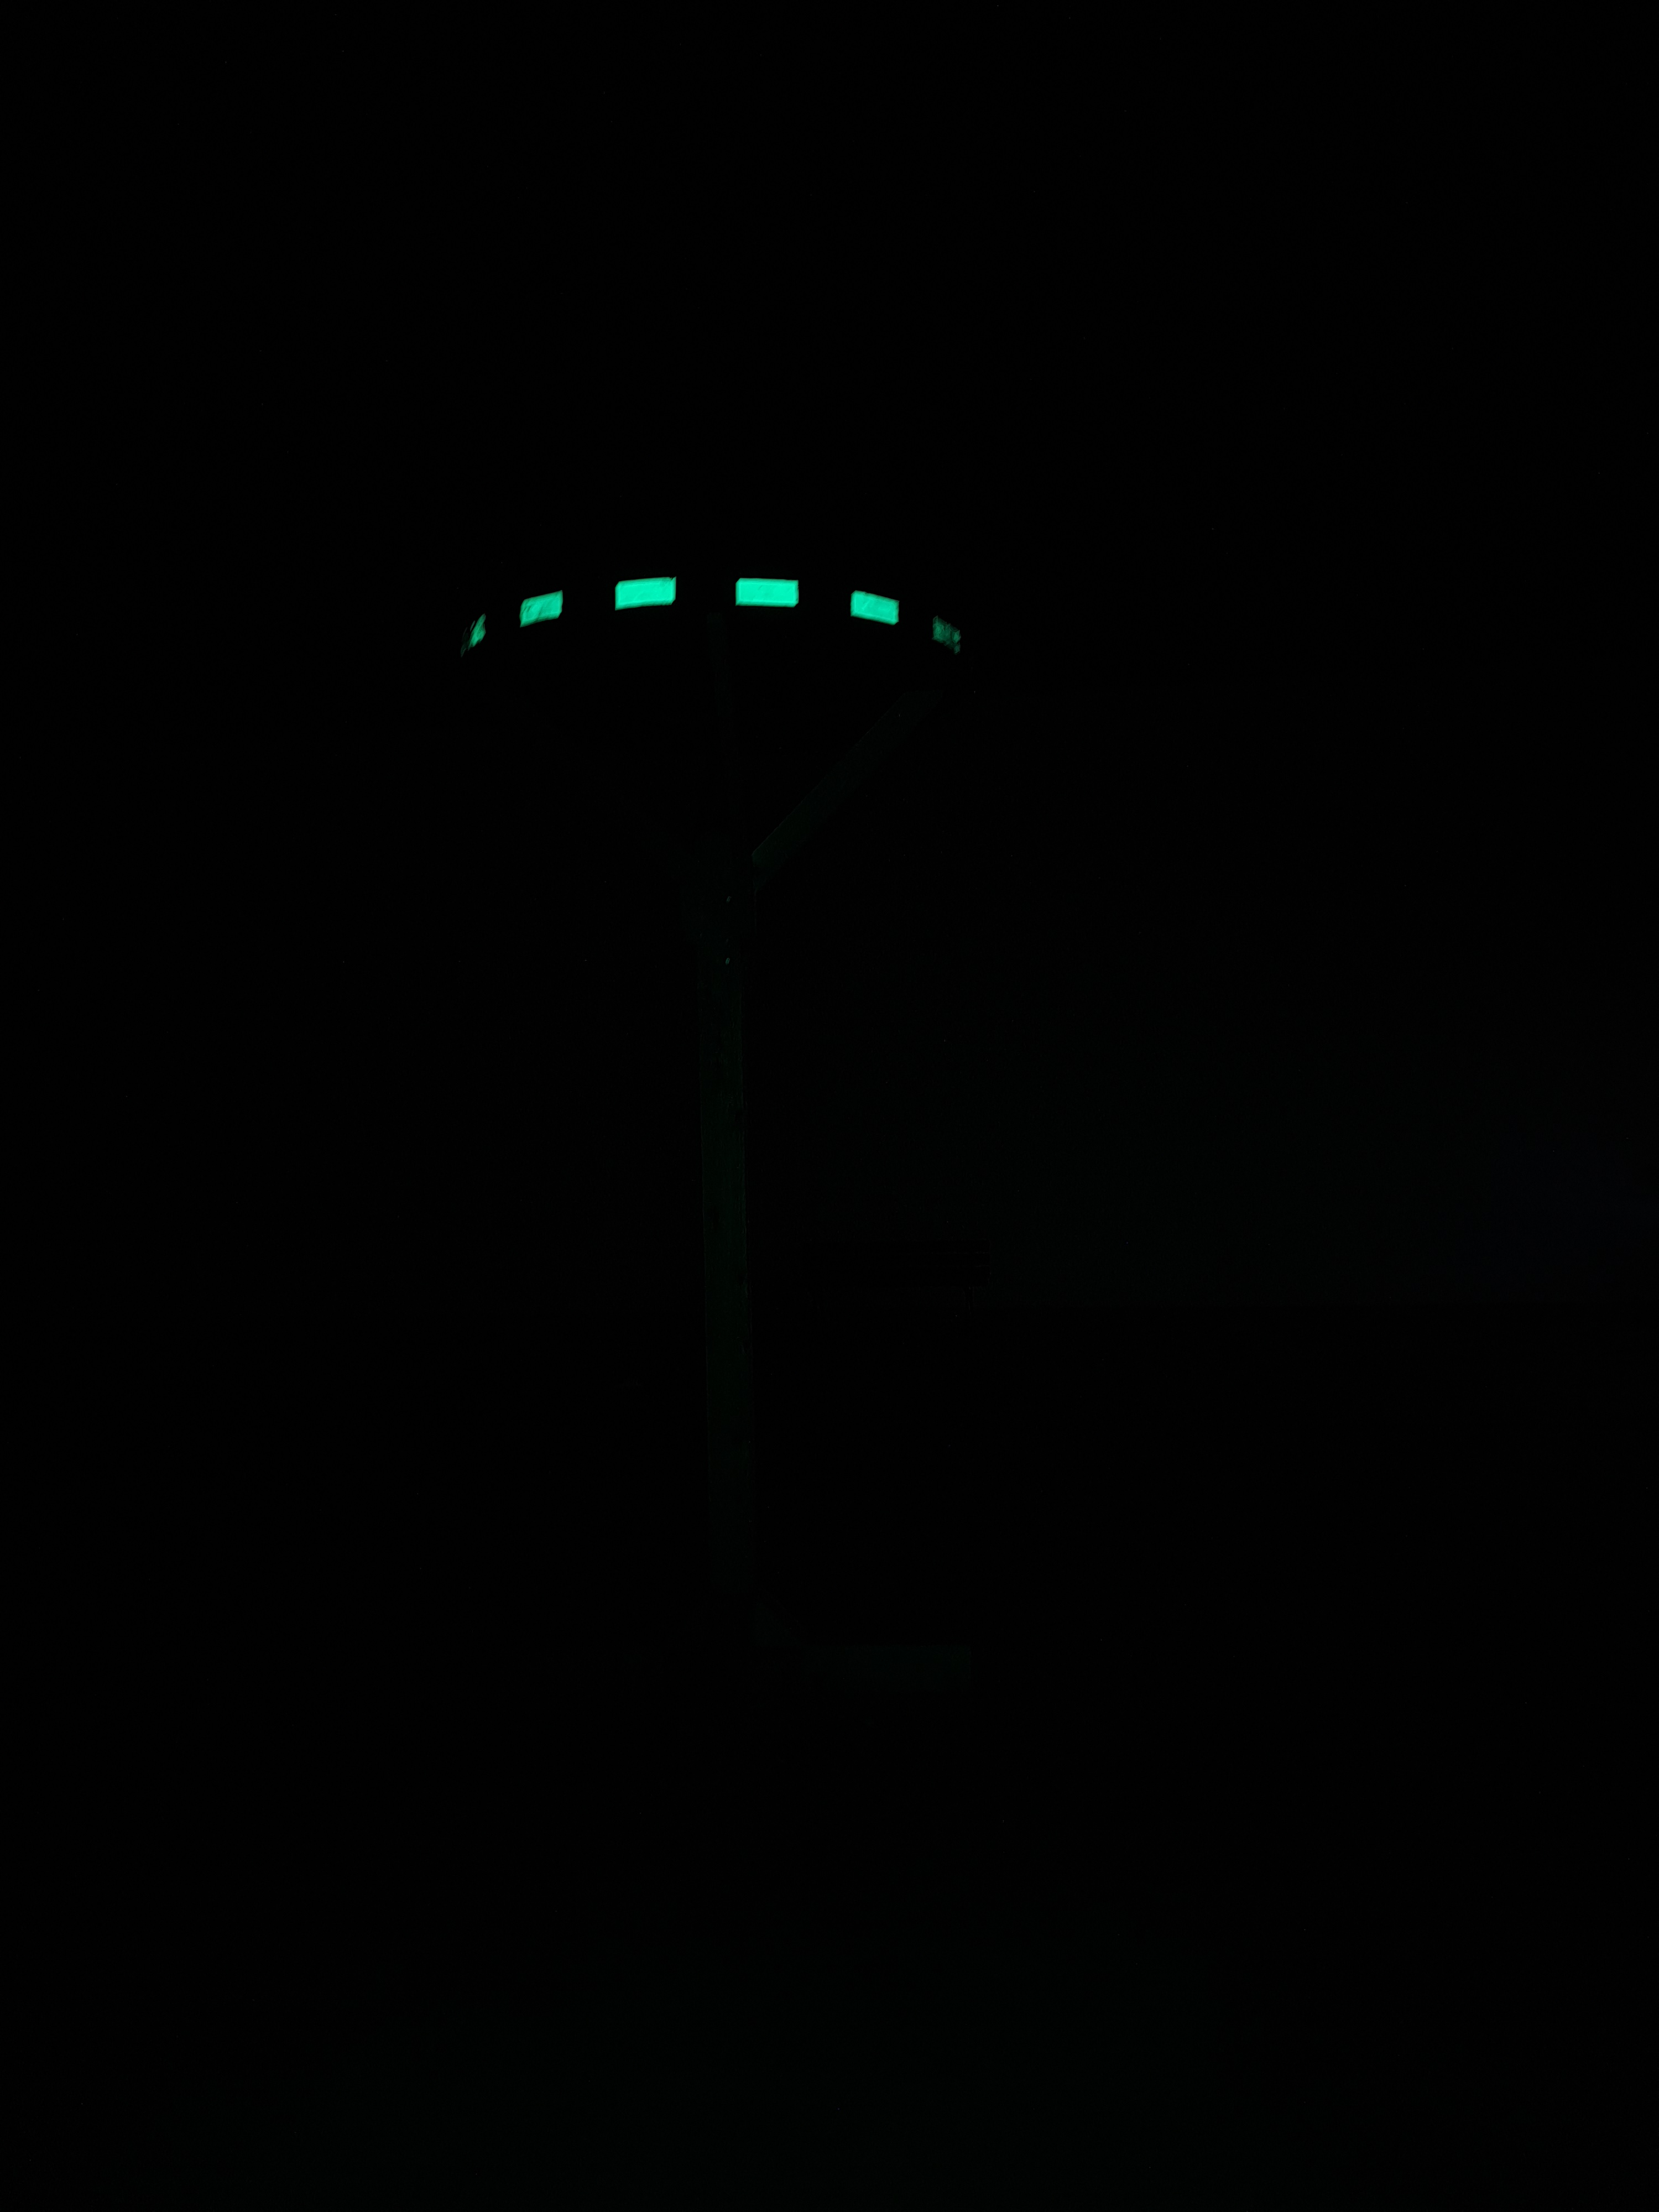hoop: (457, 564, 967, 674)
